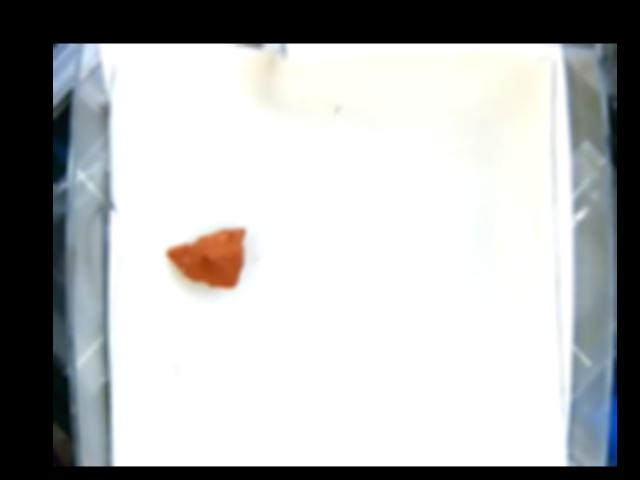Brisk: (161, 226, 246, 284)
